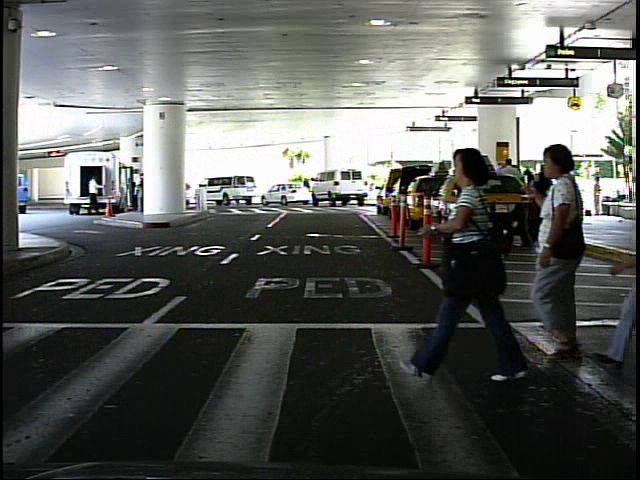person: (517, 132, 618, 379), (427, 136, 519, 393), (86, 170, 104, 220), (588, 172, 607, 218)
